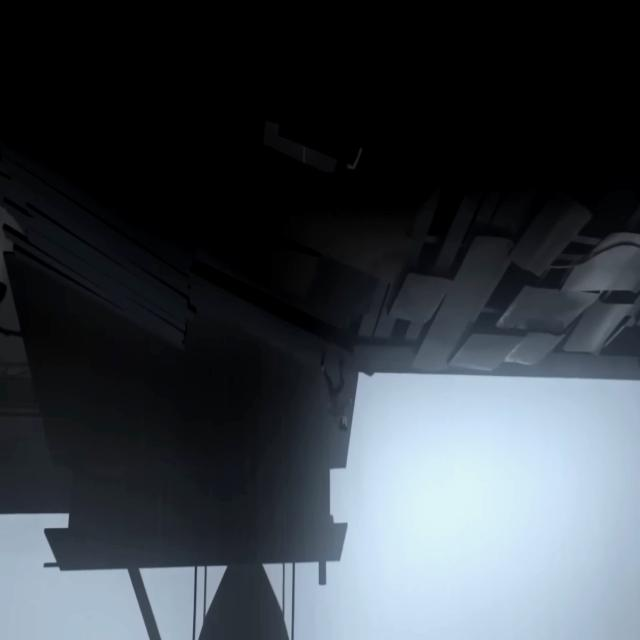boy: (321, 356, 352, 432)
